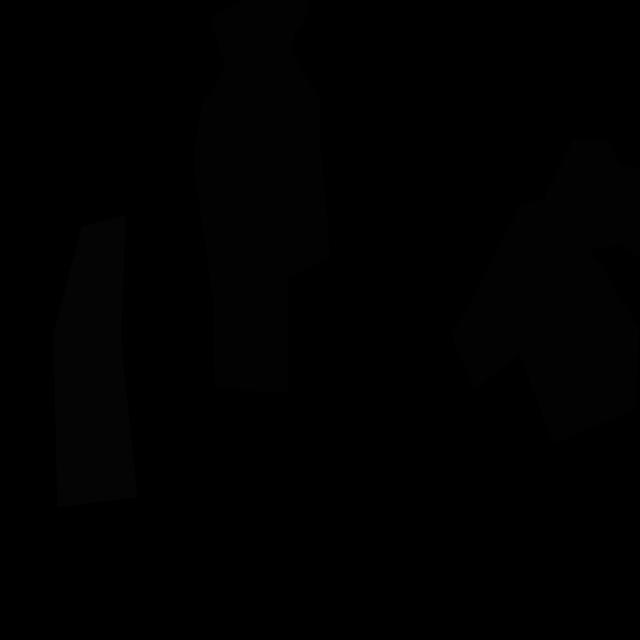cardboard: (194, 0, 330, 393), (452, 228, 640, 444), (509, 138, 640, 258)
soft_plastic: (53, 215, 138, 507)
